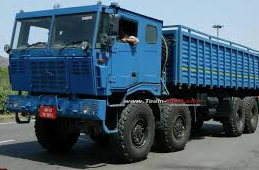truck: (6, 8, 259, 163)
